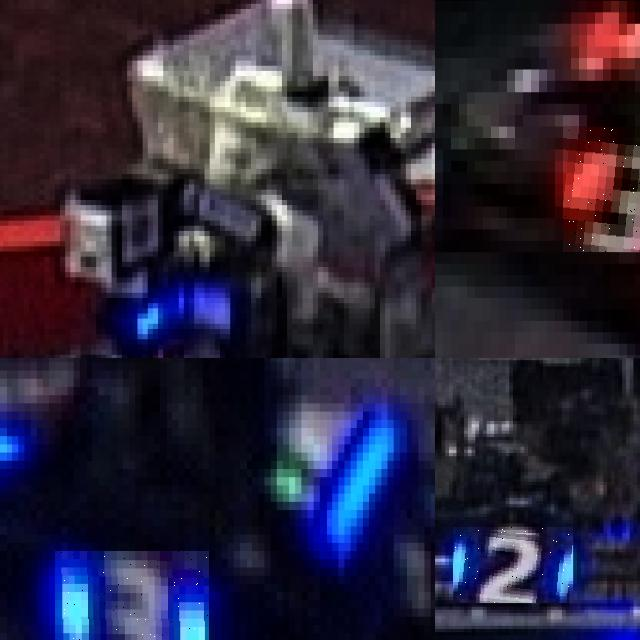B2: (453, 527, 573, 603)
B3: (55, 551, 209, 640)
R3: (563, 126, 640, 252)
